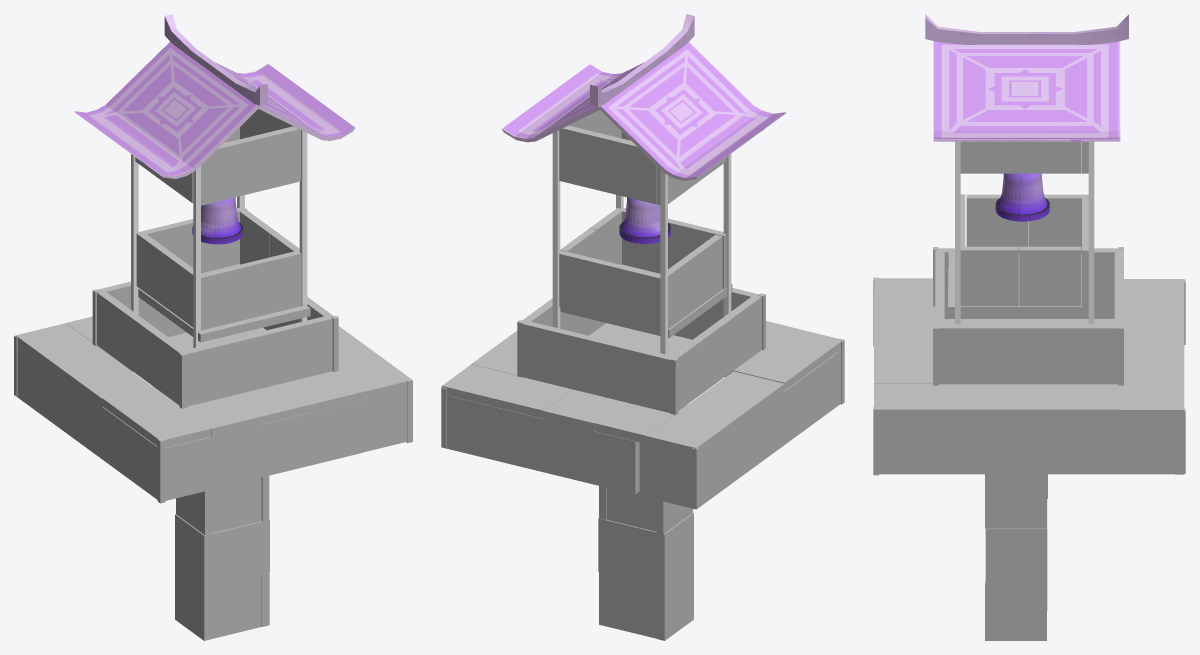
3 renders of one model, left to right at view 1: azimuth 30°, elevation 25°; view 2: azimuth 150°, elevation 25°; view 3: azimuth 270°, elevation 25°, orthographic. The views are drawn at different scales.
Visible parts, largest first — view 1: Box529, Box528, Cube__58__102, Cube__58__050, Cube__58__061, Cube__58__103, Cube__58__121, Cube__58__122, Cube__58__067, Cube__58__138, Cube__58__005, Cube__58__030 (+42 smaller); view 2: Box529, Box528, Cube__58__133, Cube__58__132, Cube__58__134, Cube__58__127, Cube__58__055, Cube__58__065, Cube__58__125, Cube__58__126, Cube__58__137, Cube__58__032 (+41 smaller); view 3: Box528, Cube__58__053, Cube__58__130, Cube__58__129, Cube__58__052, Cube__58__136, Cube__58__093, Cube__58__094, Cube__58__131, Cube__58__095, Cube__58__100, Cube__58__033 (+28 smaller).
Part boxes in pixels (left/top/right/bottom): Box529: left=74, top=42, right=258, bottom=178; Box528: left=215, top=62, right=355, bottom=140; Cube__58__102: left=229, top=327, right=283, bottom=395; Cube__58__050: left=244, top=251, right=298, bottom=318; Cube__58__061: left=243, top=126, right=297, bottom=194; Cube__58__103: left=280, top=315, right=332, bottom=382; Cube__58__121: left=261, top=412, right=311, bottom=477; Cube__58__122: left=311, top=400, right=361, bottom=464; Cube__58__067: left=179, top=339, right=233, bottom=406; Cube__58__138: left=212, top=521, right=261, bottom=586; Cube__58__005: left=201, top=263, right=247, bottom=330; Cube__58__030: left=212, top=574, right=261, bottom=638; Box529: left=600, top=42, right=785, bottom=180; Box528: left=502, top=62, right=643, bottom=142; Cube__58__133: left=570, top=332, right=625, bottom=400; Cube__58__132: left=519, top=320, right=574, bottom=388; Cube__58__134: left=621, top=345, right=676, bottom=413; Cube__58__127: left=584, top=429, right=639, bottom=494; Cube__58__055: left=606, top=262, right=659, bottom=330; Cube__58__065: left=605, top=135, right=657, bottom=204; Cube__58__125: left=482, top=404, right=533, bottom=469; Cube__58__126: left=533, top=416, right=584, bottom=481; Cube__58__137: left=606, top=520, right=656, bottom=585; Cube__58__032: left=606, top=573, right=656, bottom=638; Box528: left=933, top=41, right=1120, bottom=141; Cube__58__053: left=1019, top=246, right=1081, bottom=306; Cube__58__130: left=999, top=324, right=1060, bottom=384; Cube__58__129: left=938, top=324, right=999, bottom=384; Cube__58__052: left=960, top=246, right=1018, bottom=306; Cube__58__136: left=985, top=525, right=1047, bottom=584; Cube__58__093: left=874, top=418, right=936, bottom=474; Cube__58__094: left=936, top=418, right=998, bottom=474; Cube__58__131: left=1060, top=324, right=1118, bottom=384; Cube__58__095: left=998, top=418, right=1059, bottom=474; Cube__58__100: left=1060, top=418, right=1121, bottom=474; Cube__58__033: left=985, top=581, right=1046, bottom=640.
Size of the model in its own units: 1232 by 2651 by 1235.
